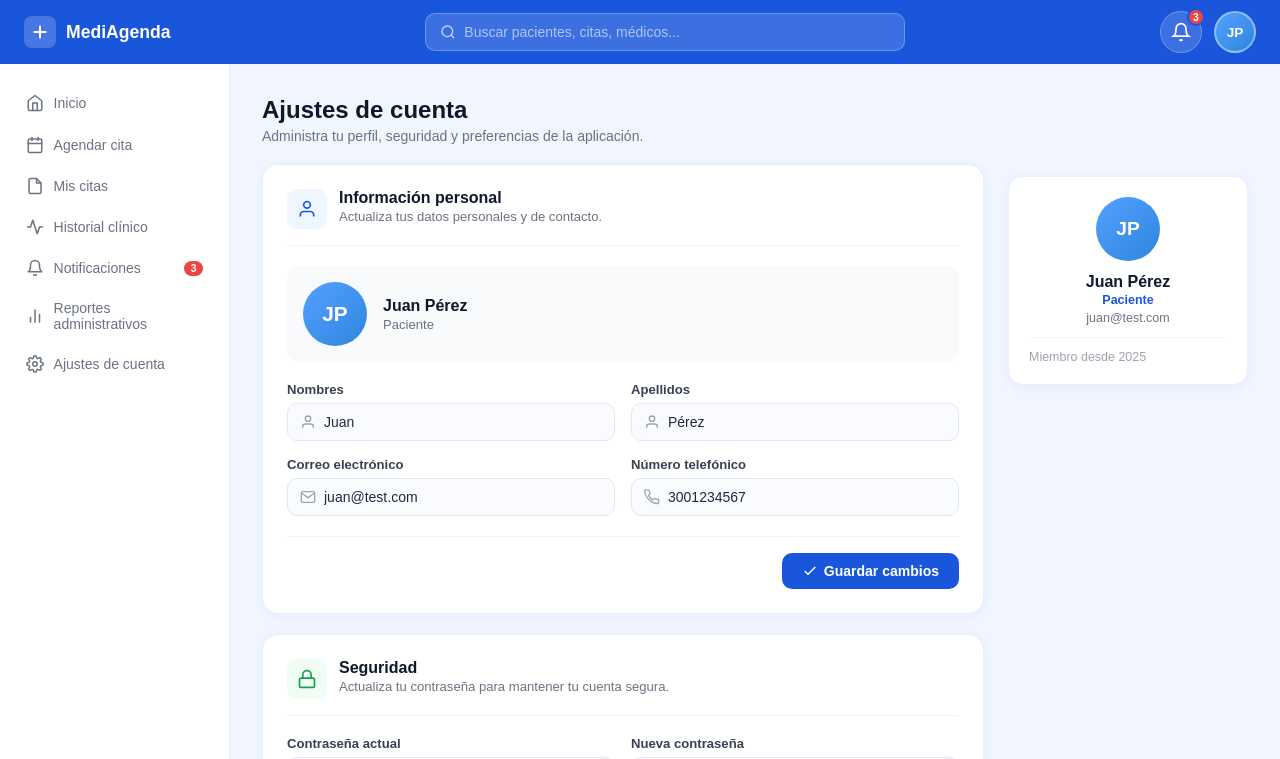
Test: Componente Ajustes - MediAgenda › Formulario de perfil › debe mostrar alerta de éxito al guardar perfil
Click the button "Guardar cambios". click: {"x": 870, "y": 571}
box: [782, 553, 959, 589]
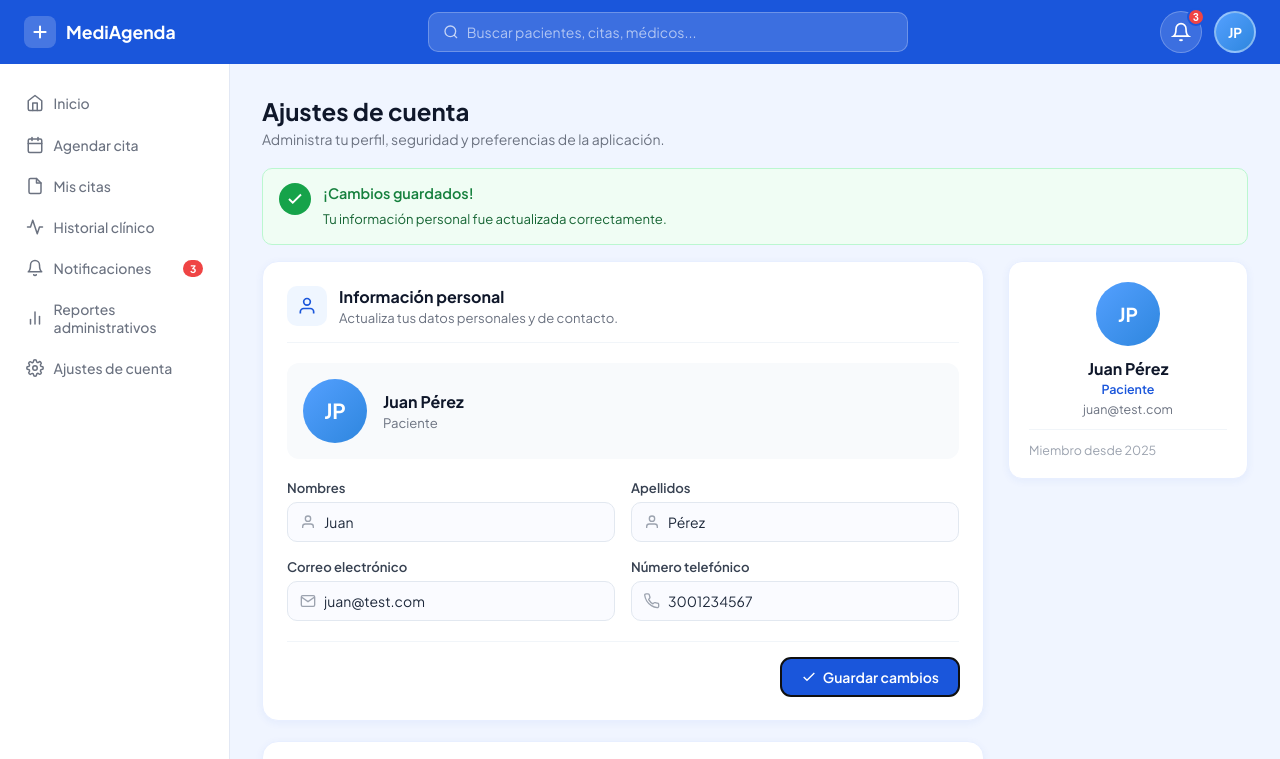
Expected: the text "¡Cambios guardados!" is shown, [323, 184, 474, 202]
